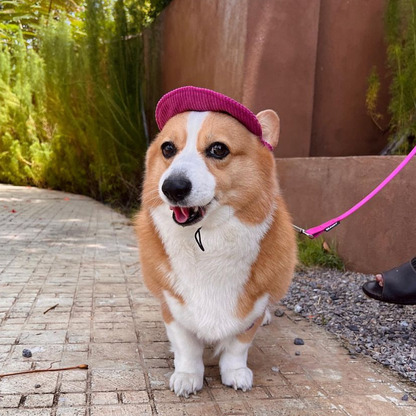Corgi: (137, 106, 299, 401)
